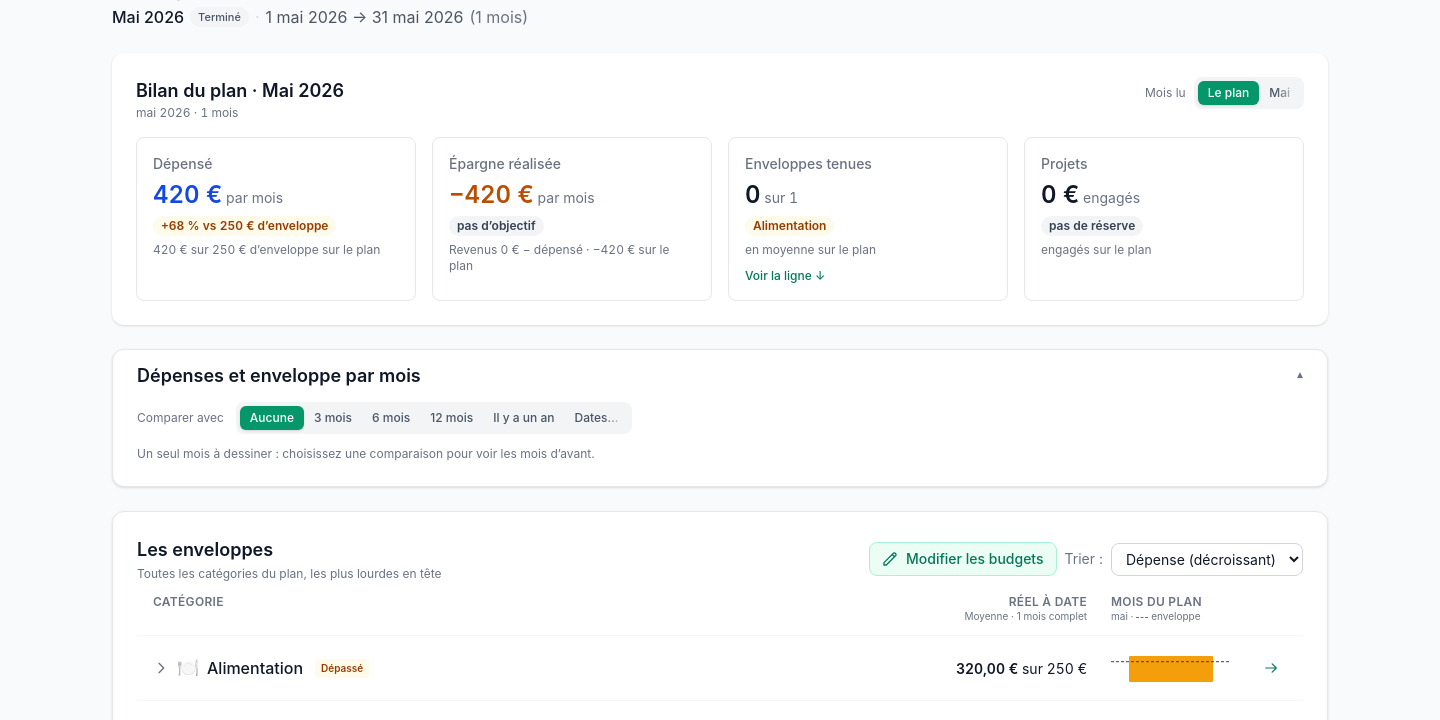
BudgetPage › editing budgets › restores the saved envelopes on "Annuler" and leaves the server alone
Click the button with test id "budget-edit-button".
click(963, 559)  # box [869,542,1056,576]
(page scrolled)
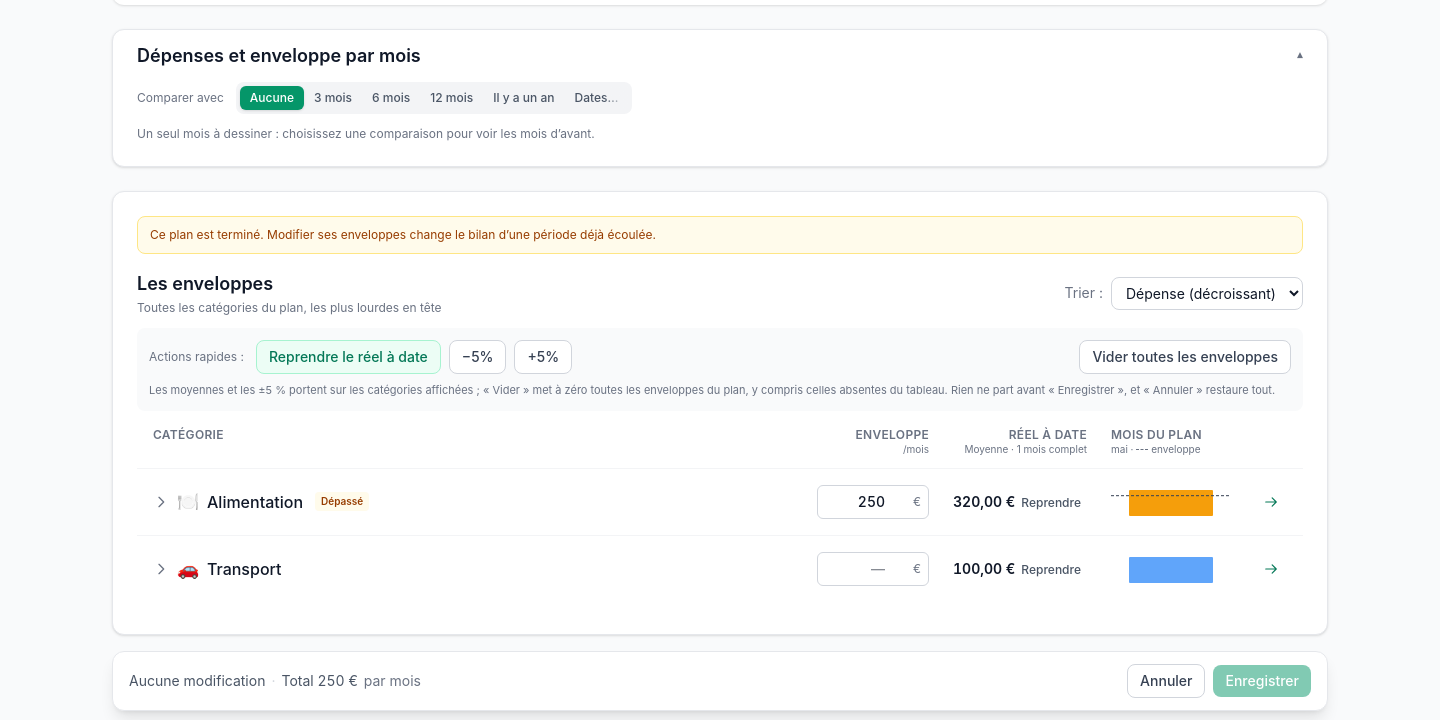
Replace the text in the number field with test id "budget-input-Alimentation" with "999" at (873, 502), box [817,485,929,519]
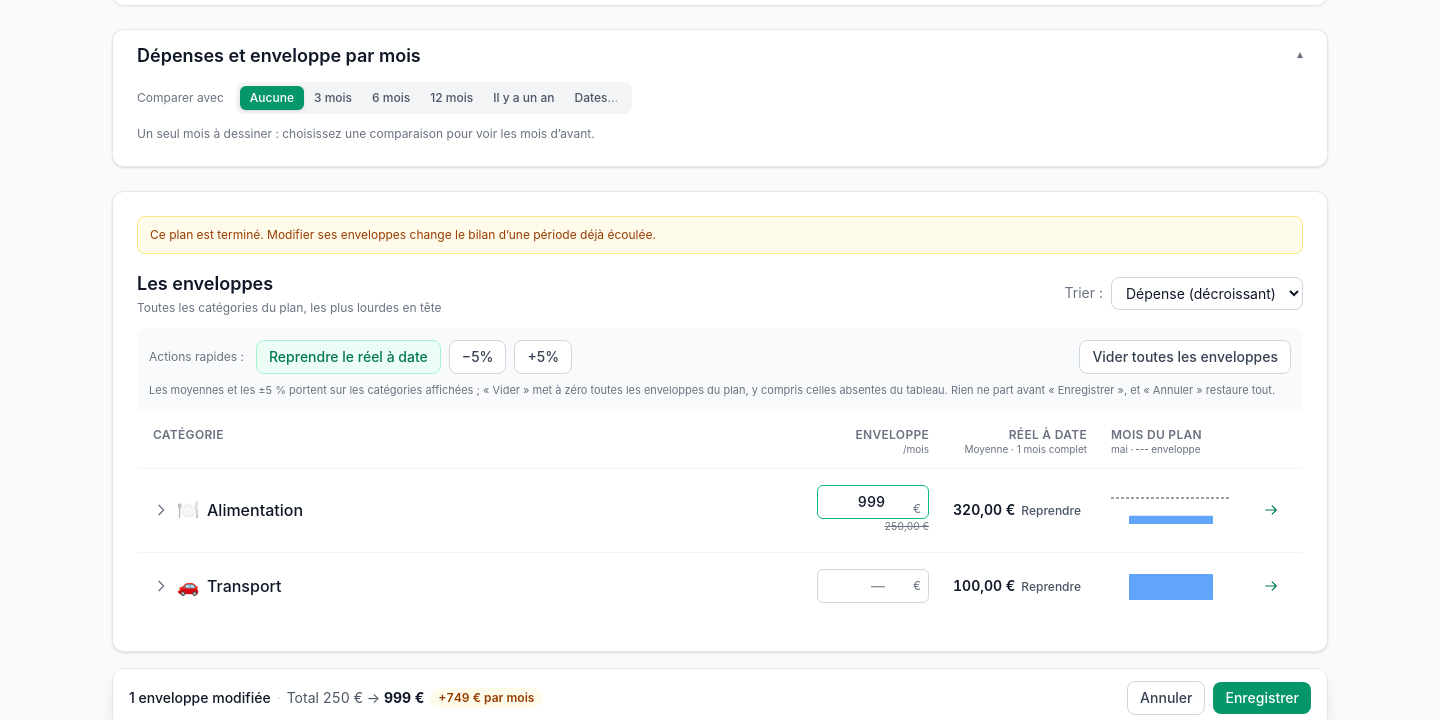
Click the button with test id "budget-cancel-button".
click(1166, 698)  # box [1127,681,1206,715]
(page scrolled)
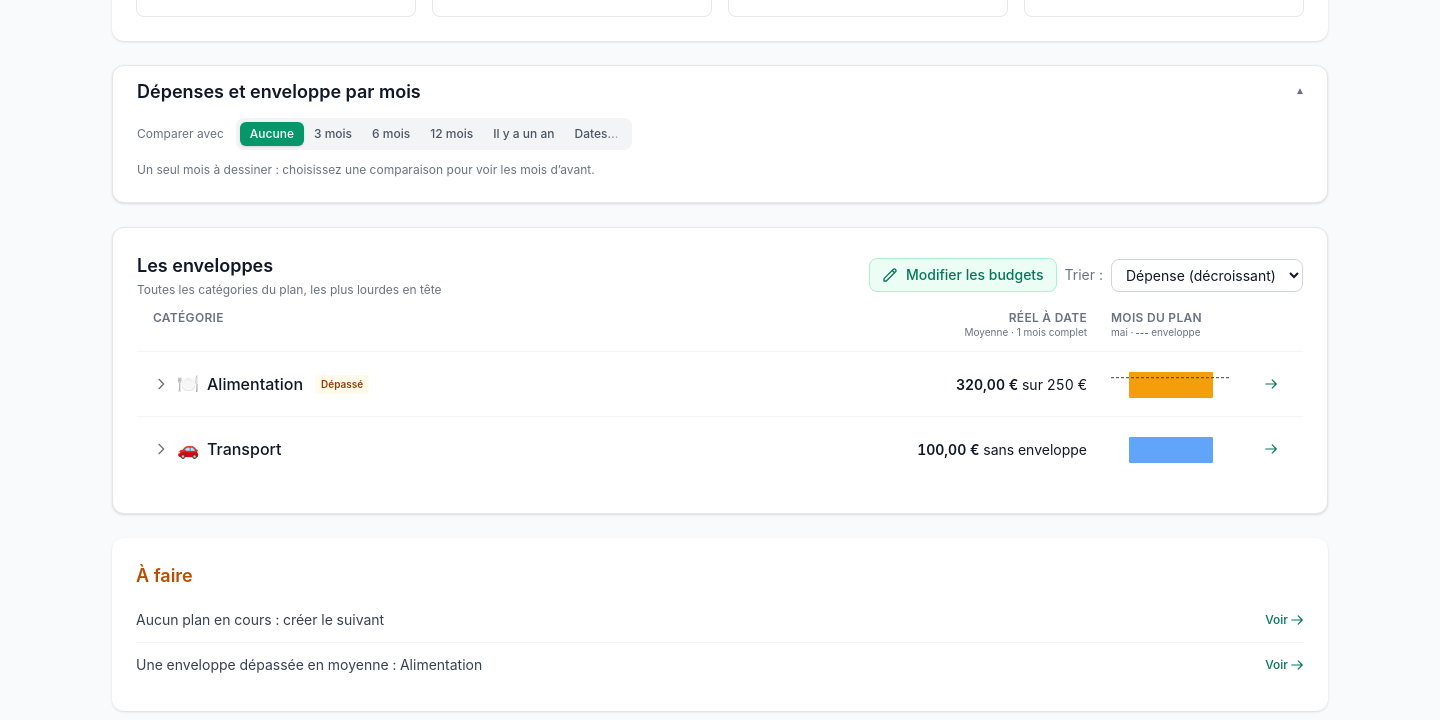
Check: the text with test id "budget-value-Alimentation" shows "250", box [1022,376,1087,393]
